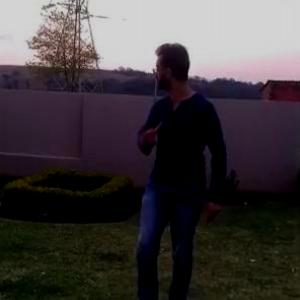takeoff-hand: (137, 115, 164, 152)
